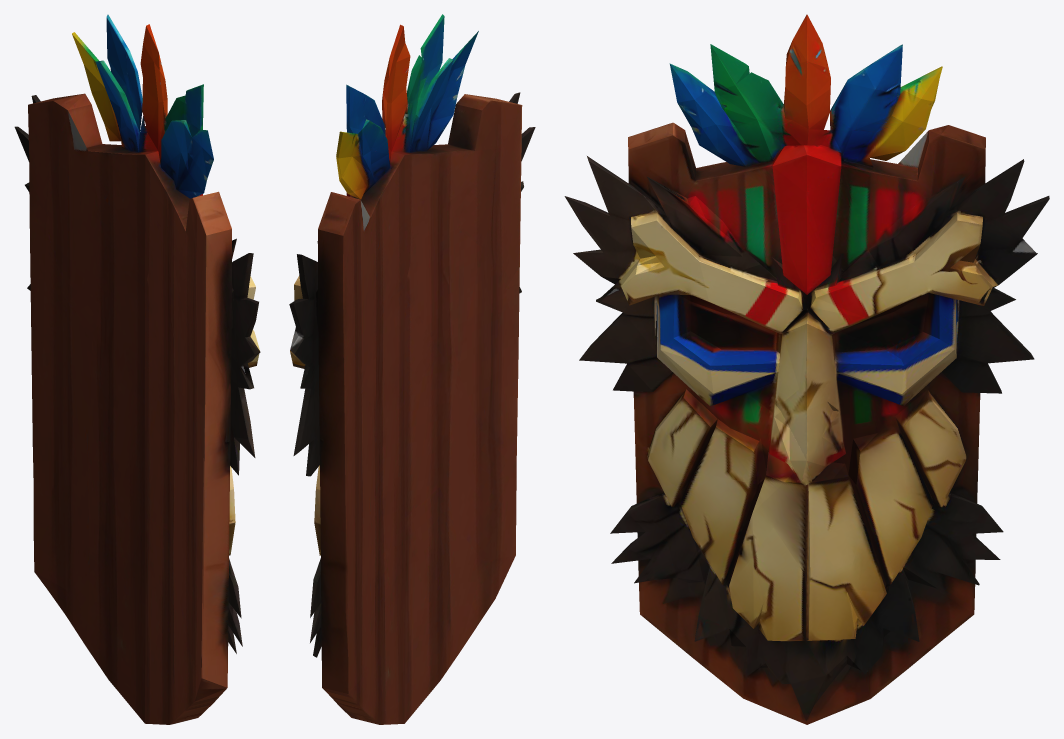
File: Mask_Combatiente.glb
The picture shows the model from 3 angles, left to right: view 1: azimuth 30°, elevation 25°; view 2: azimuth 150°, elevation 25°; view 3: azimuth 270°, elevation 25°; orthographic projection.
Visible parts, largest first — view 1: tripo_node_3c741987-5855-4e60-b9be-1101b56b8ba6; view 2: tripo_node_3c741987-5855-4e60-b9be-1101b56b8ba6; view 3: tripo_node_3c741987-5855-4e60-b9be-1101b56b8ba6.
Part boxes in pixels (<box>): tripo_node_3c741987-5855-4e60-b9be-1101b56b8ba6: <box>14,14,260,724</box>; tripo_node_3c741987-5855-4e60-b9be-1101b56b8ba6: <box>289,14,535,724</box>; tripo_node_3c741987-5855-4e60-b9be-1101b56b8ba6: <box>564,14,1049,724</box>.
Size of the model in its own units: 0.1183 by 0.9998 by 0.6286.
1 material, 1 textured.
